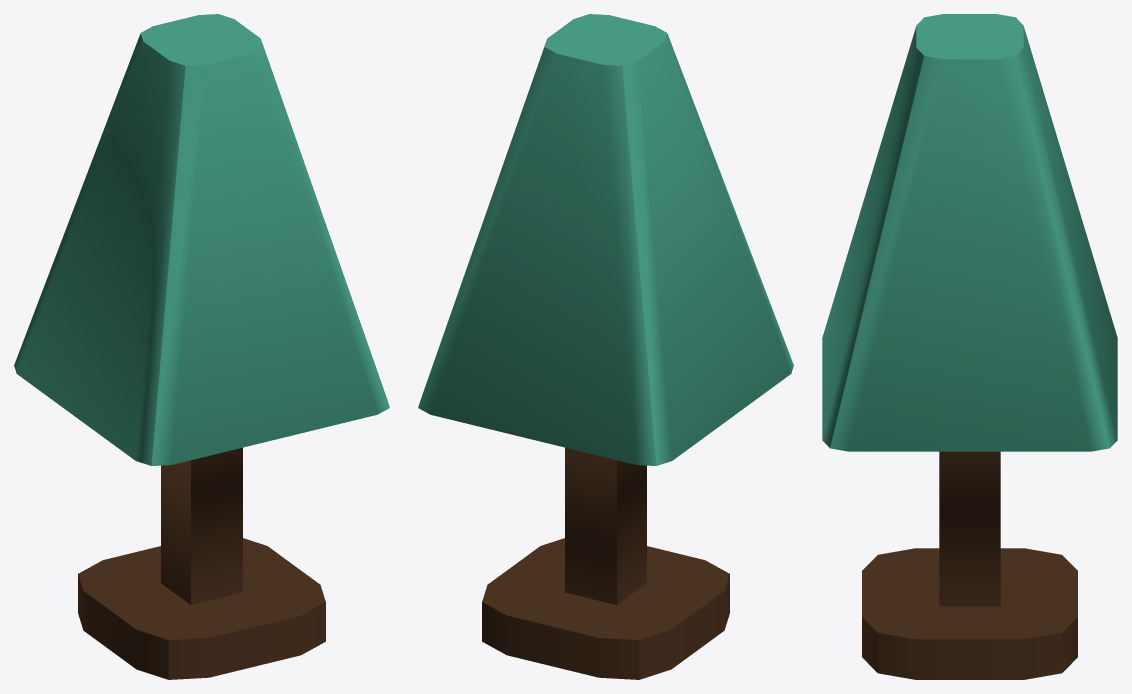
The model's file is Lamp.fbx.
The picture shows the model from 3 angles, left to right: view 1: azimuth 30°, elevation 25°; view 2: azimuth 150°, elevation 25°; view 3: azimuth 270°, elevation 25°; orthographic projection.
Visible parts, largest first — view 1: pCube7; view 2: pCube7; view 3: pCube7.
Part boxes in pixels (bbox=[...]): pCube7: bbox=[14, 14, 389, 679]; pCube7: bbox=[418, 14, 793, 679]; pCube7: bbox=[822, 14, 1117, 679].
Size of the model in its own units: 6.61 by 14.75 by 6.61.
